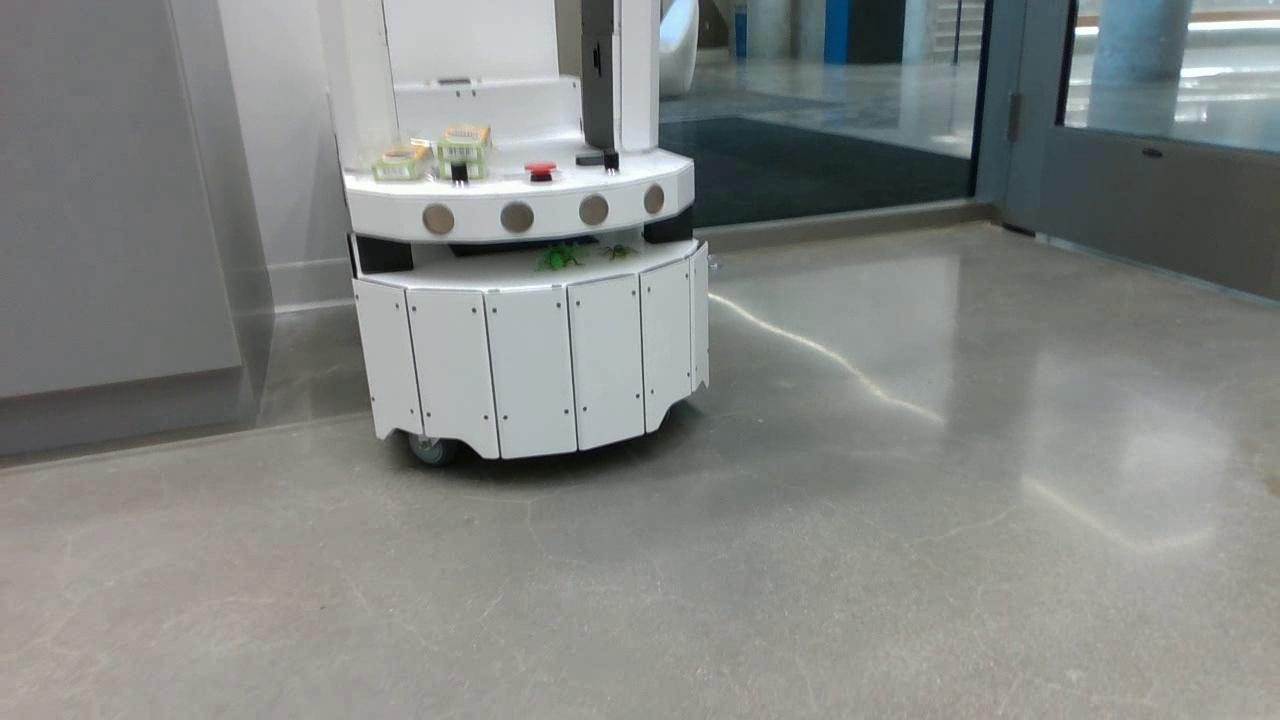grasshopper: (536, 245, 582, 271)
